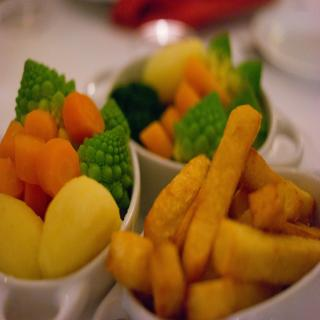French fries: (124, 69, 311, 296)
Mango: (37, 156, 126, 264)
